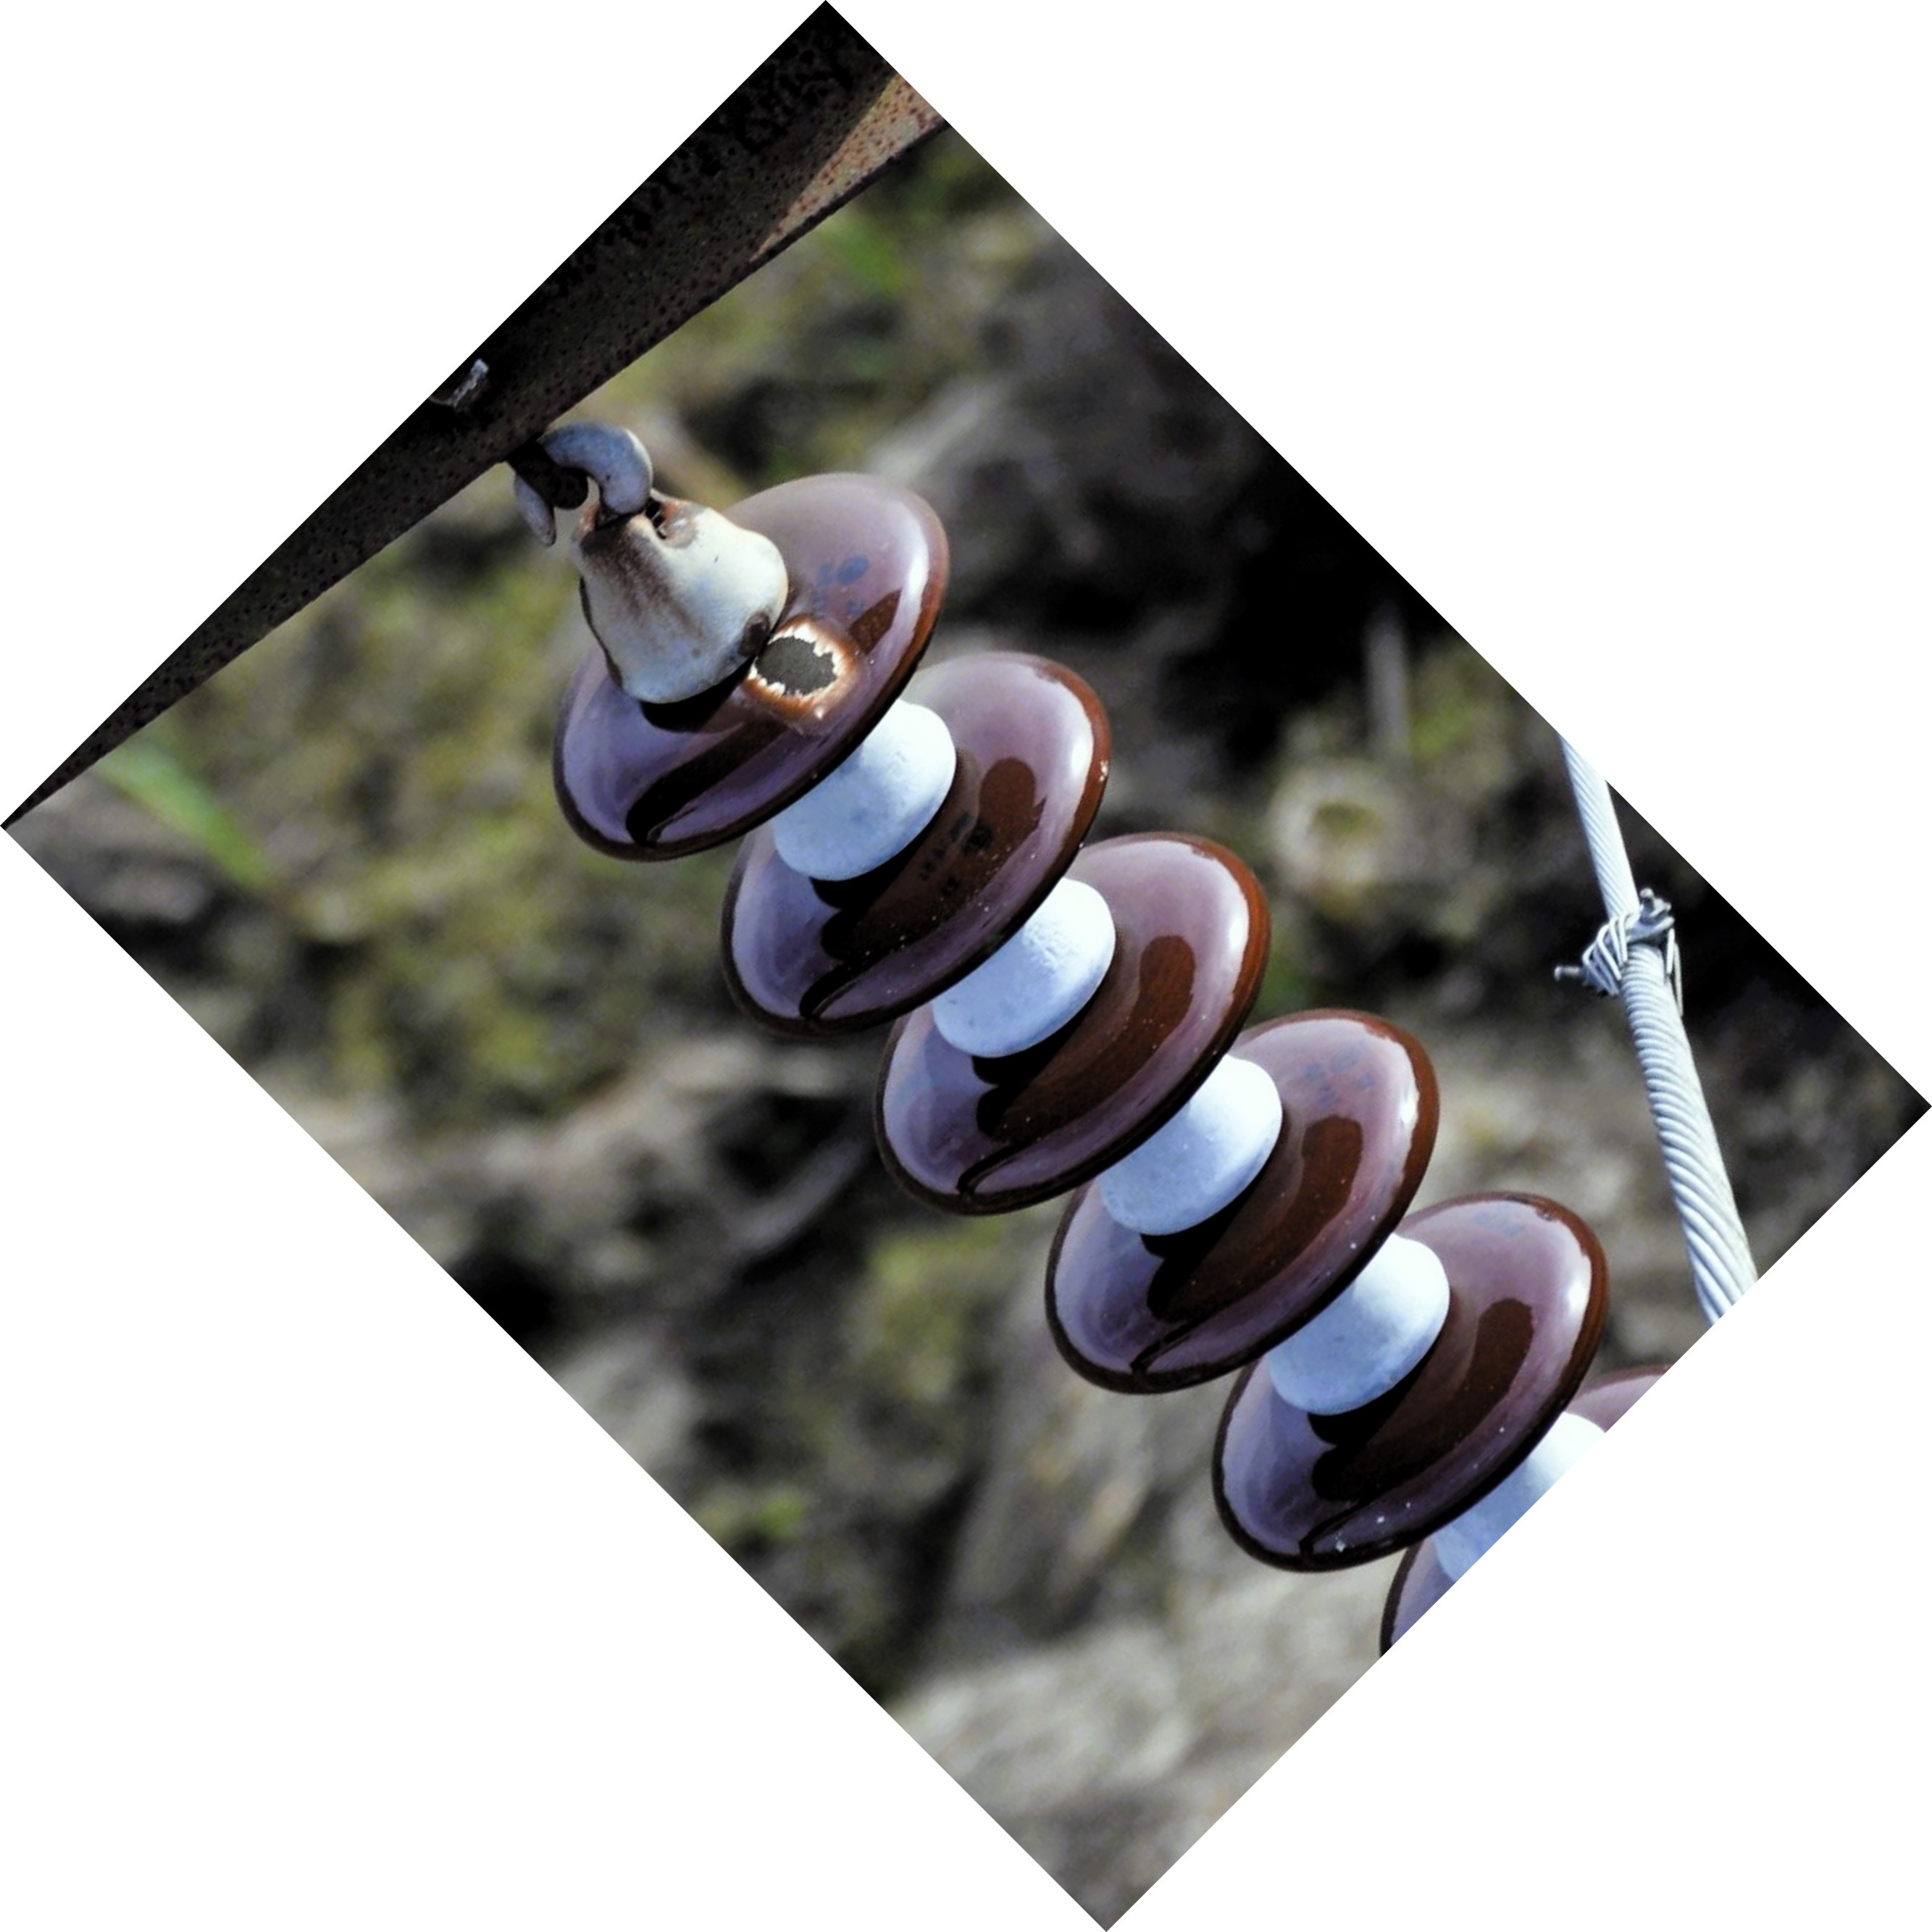Insulator flashover: (536, 446, 955, 886)
